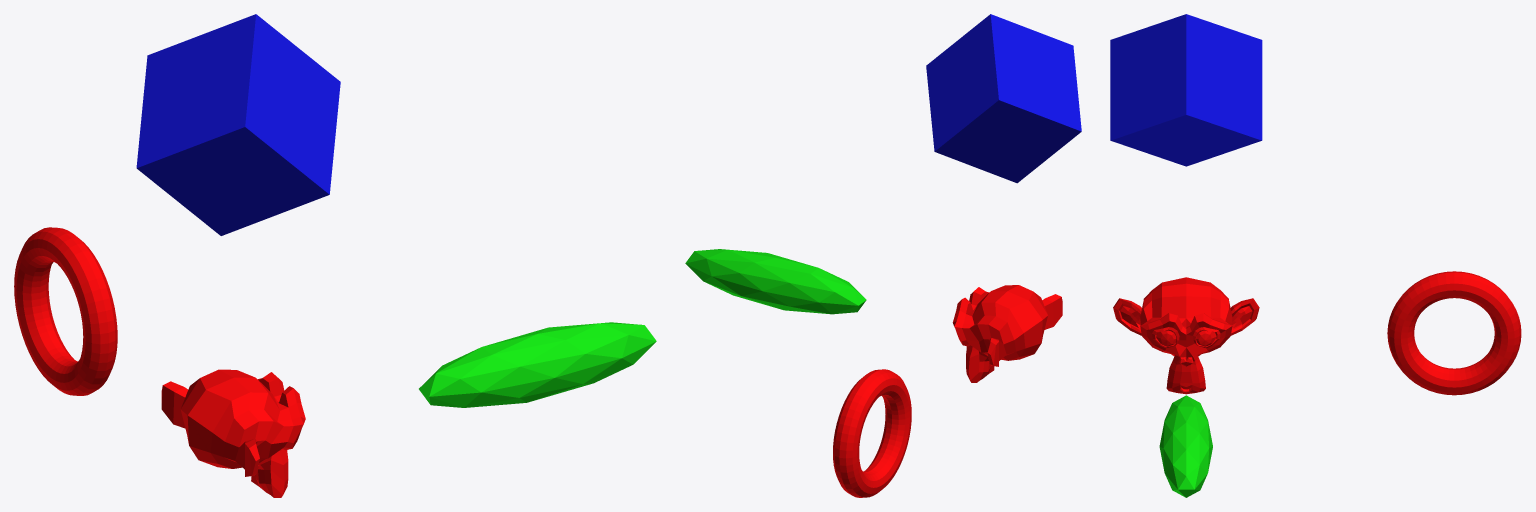
The picture shows the model from 3 angles, left to right: view 1: azimuth 30°, elevation 25°; view 2: azimuth 150°, elevation 25°; view 3: azimuth 270°, elevation 25°; orthographic projection. The views are drawn at different scales.
Parts seen in each view (by area): view 1: Cubeh, Icosphereh, Suzanneh, Torush; view 2: Cubeh, Icosphereh, Suzanneh, Torush; view 3: Cubeh, Torush, Suzanneh, Icosphereh.
Boxes of the visible parts, x1=… form: Cubeh: x1=136, y1=14, x2=340, y2=235; Icosphereh: x1=419, y1=322, x2=656, y2=407; Suzanneh: x1=161, y1=369, x2=305, y2=497; Torush: x1=14, y1=227, x2=117, y2=395; Cubeh: x1=926, y1=14, x2=1081, y2=183; Icosphereh: x1=685, y1=249, x2=866, y2=314; Suzanneh: x1=952, y1=285, x2=1062, y2=382; Torush: x1=833, y1=369, x2=911, y2=497; Cubeh: x1=1110, y1=14, x2=1262, y2=166; Torush: x1=1387, y1=271, x2=1521, y2=395; Suzanneh: x1=1113, y1=277, x2=1259, y2=394; Icosphereh: x1=1159, y1=395, x2=1212, y2=497.
Bounding box in the file's own units: 861 × 796 × 766.
